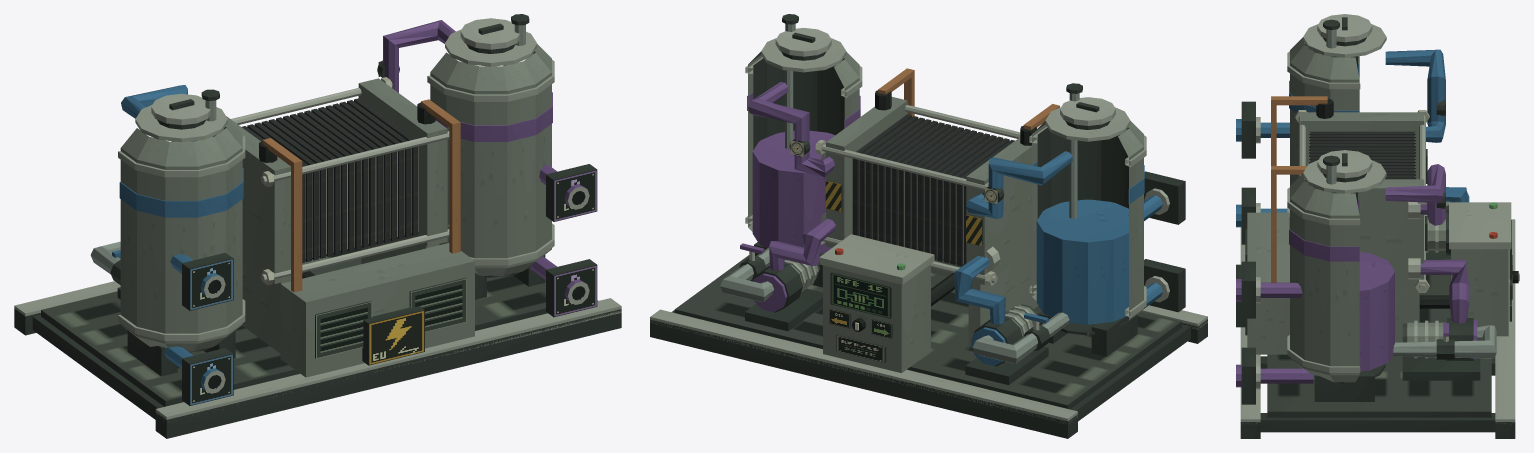
File: flow_battery_cutaway.obj
3 views of the same model, side by side, from view 1: azimuth 30°, elevation 25°; view 2: azimuth 150°, elevation 25°; view 3: azimuth 270°, elevation 25° (orthographic). The views are drawn at different scales.
Parts seen in each view (by area): view 1: tank_a_shell, skid, tank_b_shell, stack_plates, converter, deck, stack_endplates, tank_a_bands, tank_b_bands, busbars, stack_tie_rods, tank_caps (+11 smaller); view 2: skid, stack_plates, deck, electrolyte_a, control_console, stack_endplates, tank_a_shell, electrolyte_b, tank_b_shell, control_face, supply_a, pump_b (+17 smaller); view 3: tank_b_shell, deck, skid, stack_endplates, control_console, converter, electrolyte_b, tank_b_bands, tank_a_shell, supply_b, stack_plates, pump_b (+18 smaller).
Boxes of the visible parts, x1=… form: tank_a_shell: x1=120, y1=120, x2=242, y2=351; skid: x1=14, y1=281, x2=621, y2=438; tank_b_shell: x1=430, y1=44, x2=551, y2=276; stack_plates: x1=242, y1=98, x2=418, y2=263; converter: x1=280, y1=243, x2=474, y2=377; deck: x1=41, y1=249, x2=547, y2=406; stack_endplates: x1=213, y1=78, x2=447, y2=283; tank_a_bands: x1=118, y1=105, x2=245, y2=352; tank_b_bands: x1=427, y1=29, x2=554, y2=277; busbars: x1=259, y1=99, x2=460, y2=292; stack_tie_rods: x1=231, y1=77, x2=449, y2=285; tank_caps: x1=151, y1=14, x2=529, y2=129; skid: x1=650, y1=305, x2=1207, y2=438; stack_plates: x1=852, y1=114, x2=1014, y2=266; deck: x1=674, y1=255, x2=1181, y2=409; electrolyte_a: x1=1036, y1=199, x2=1128, y2=324; control_console: x1=819, y1=234, x2=934, y2=372; stack_endplates: x1=825, y1=97, x2=1031, y2=284; tank_a_shell: x1=1032, y1=121, x2=1143, y2=325; electrolyte_b: x1=752, y1=130, x2=834, y2=253; tank_b_shell: x1=748, y1=51, x2=859, y2=231; control_face: x1=829, y1=248, x2=905, y2=362; supply_a: x1=954, y1=246, x2=1069, y2=363; pump_b: x1=745, y1=259, x2=822, y2=331; tank_b_shell: x1=1290, y1=173, x2=1359, y2=382; deck: x1=1267, y1=275, x2=1491, y2=417; skid: x1=1240, y1=219, x2=1515, y2=438; stack_endplates: x1=1300, y1=112, x2=1427, y2=290; control_console: x1=1449, y1=202, x2=1511, y2=336; converter: x1=1245, y1=212, x2=1289, y2=354; electrolyte_b: x1=1359, y1=252, x2=1394, y2=371; tank_b_bands: x1=1287, y1=160, x2=1386, y2=383; tank_a_shell: x1=1290, y1=37, x2=1359, y2=185; supply_b: x1=1392, y1=258, x2=1496, y2=358; stack_plates: x1=1309, y1=131, x2=1415, y2=179; pump_b: x1=1402, y1=318, x2=1480, y2=380.
Bounding box in the file's own units: 5 × 3 × 3.
1 material, 1 textured.
